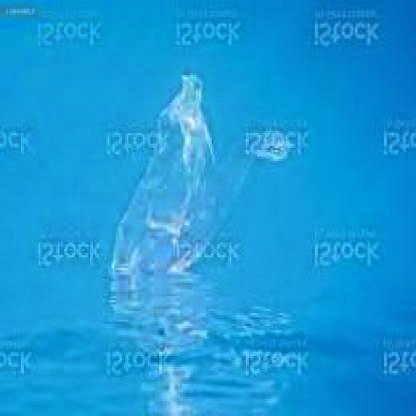pbag: (108, 71, 290, 281)
